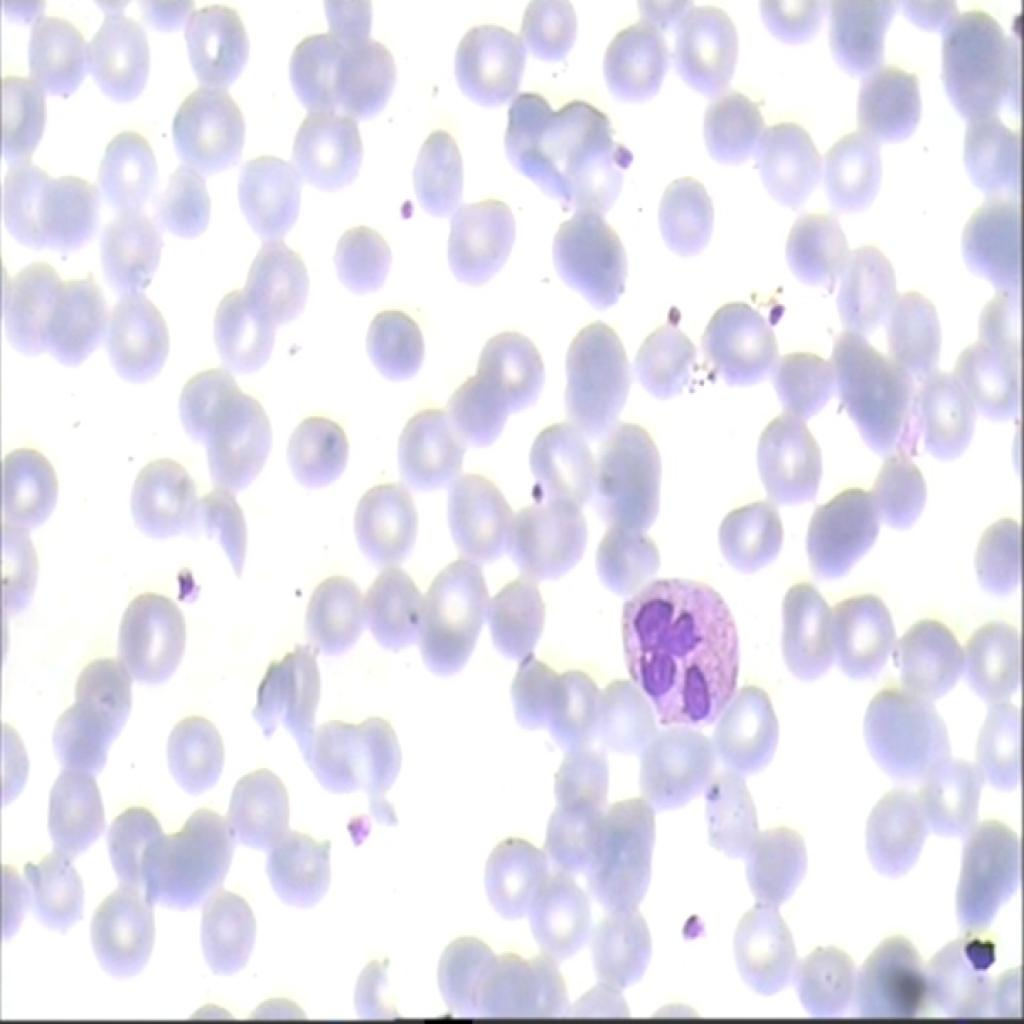Neutrofil: (610, 564, 740, 730)
Platelet: (962, 921, 1004, 985), (331, 809, 380, 853), (164, 564, 199, 612), (604, 130, 634, 181), (518, 464, 546, 508), (691, 770, 717, 807), (391, 187, 418, 222), (673, 907, 705, 935), (662, 295, 682, 336), (764, 279, 779, 331)
